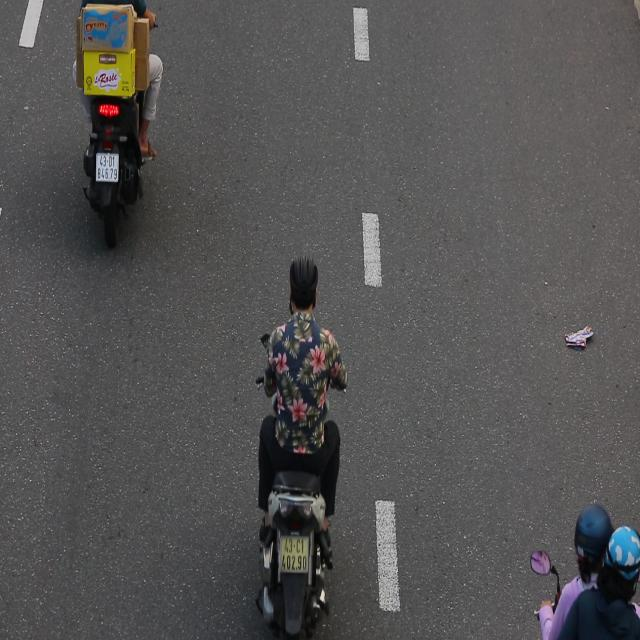motorbike: (244, 239, 349, 640)
